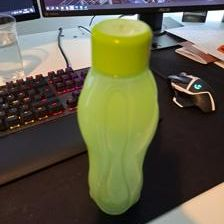bottle: (75, 15, 158, 213)
